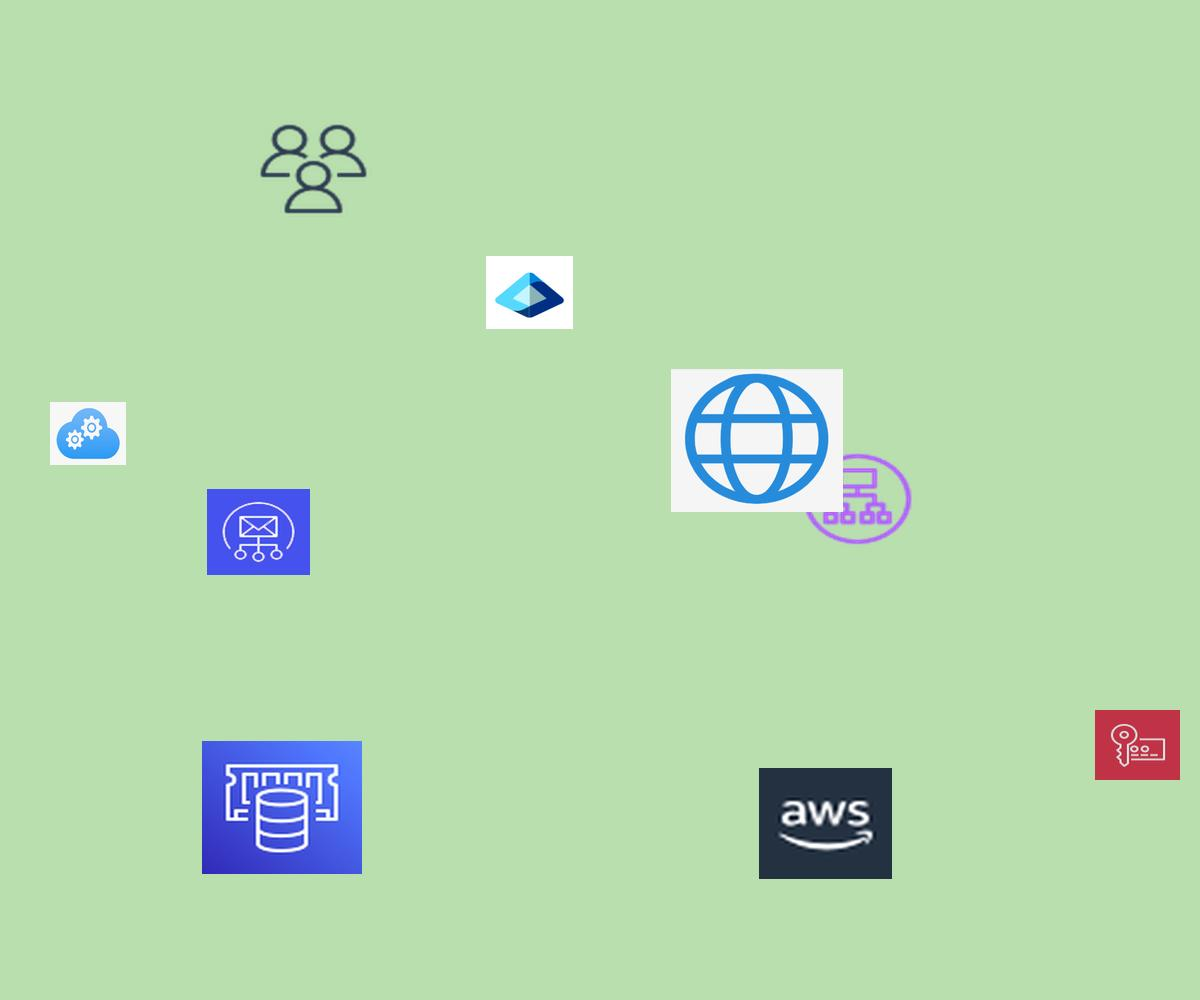AWS-Cloud-logo: (759, 768, 892, 879)
AWS-ElastiCache: (202, 741, 362, 874)
AWS-Key-Management-Service: (1095, 710, 1180, 780)
AWS-Res_Elastic-Load-Balancing_Application-Load-Balancer: (799, 450, 916, 548)
AWS-Res_Users: (256, 121, 371, 217)
AWS-Simple-Email-Service: (207, 489, 310, 575)
Azure_cloud_services: (50, 402, 126, 465)
Azure_http: (671, 369, 843, 512)
Azure_microsoft_entra: (486, 256, 573, 329)
